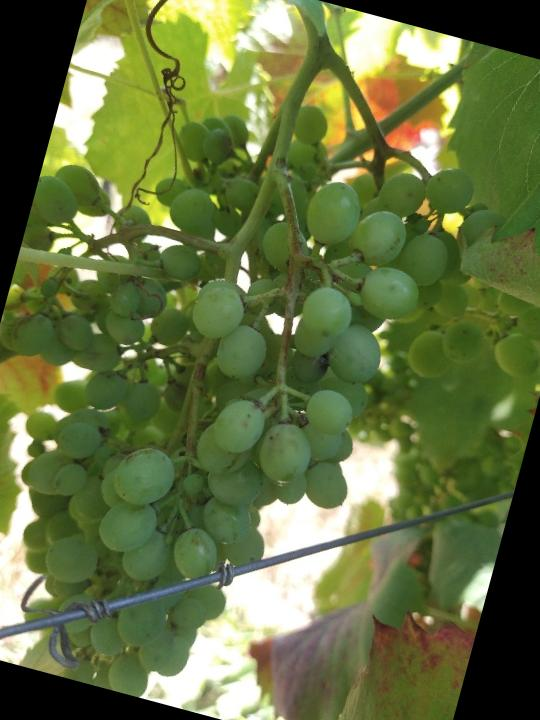grape: (0, 44, 534, 720)
